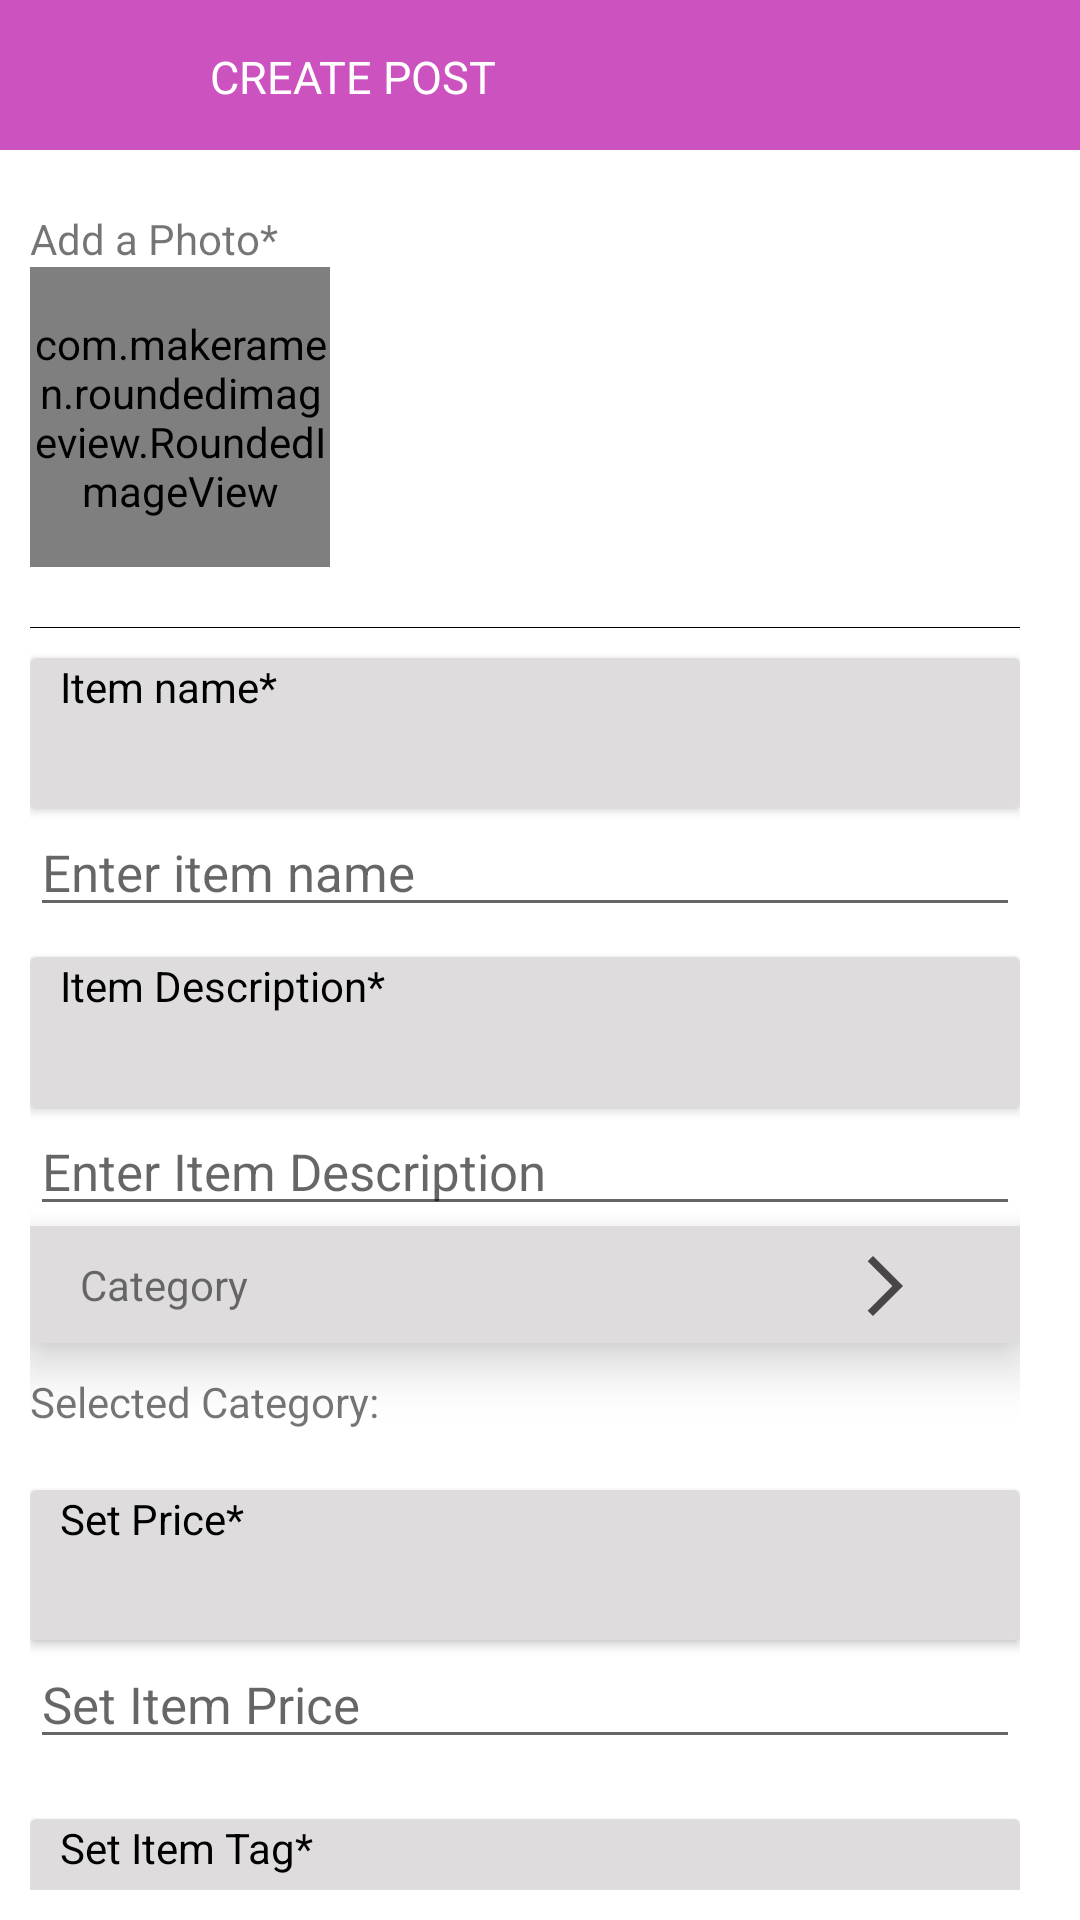

Icons on this 1080*1920 Android screen, each with its box as (x1=x1, y1=y1, x2=x2, y2=y2):
arrowright: (x1=868, y1=1256, x2=903, y2=1316)
